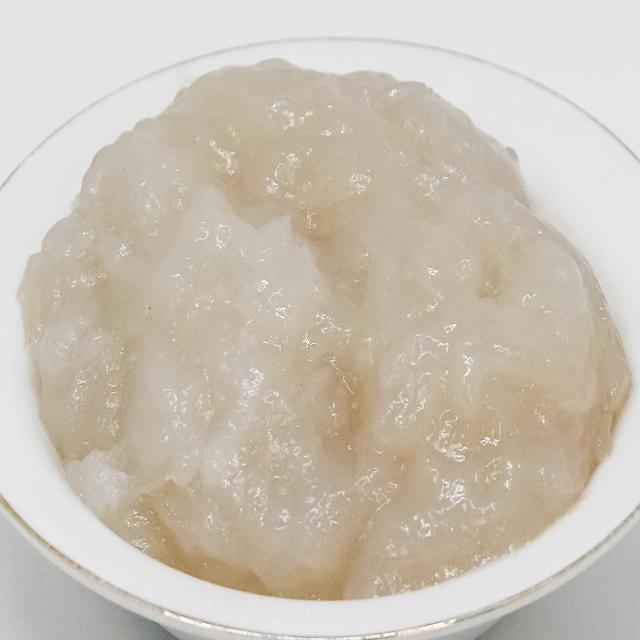Papeda: (19, 39, 633, 604)
